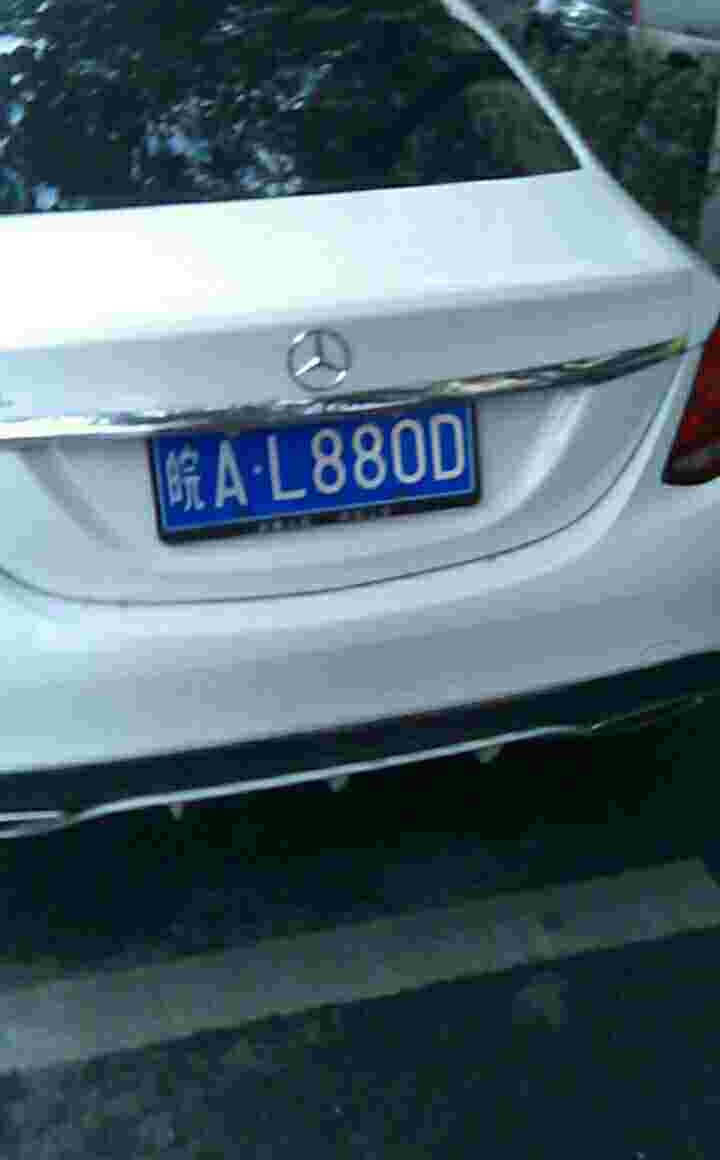license_plate: (150, 399, 484, 519)
